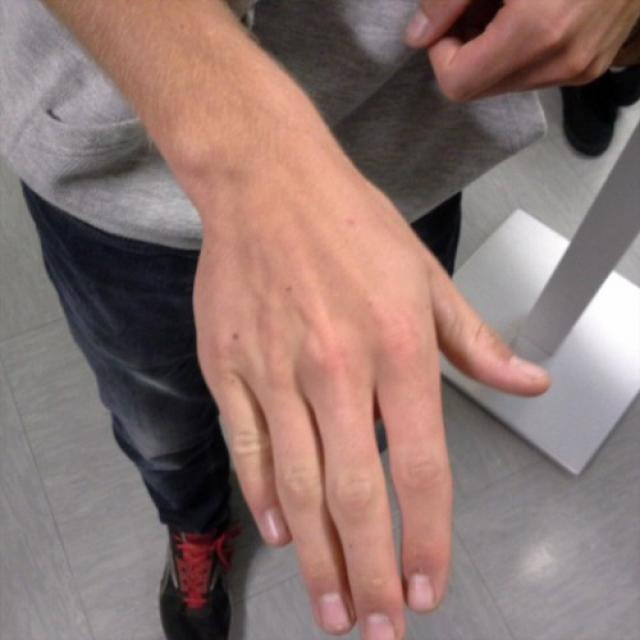paper: (197, 226, 550, 640)
